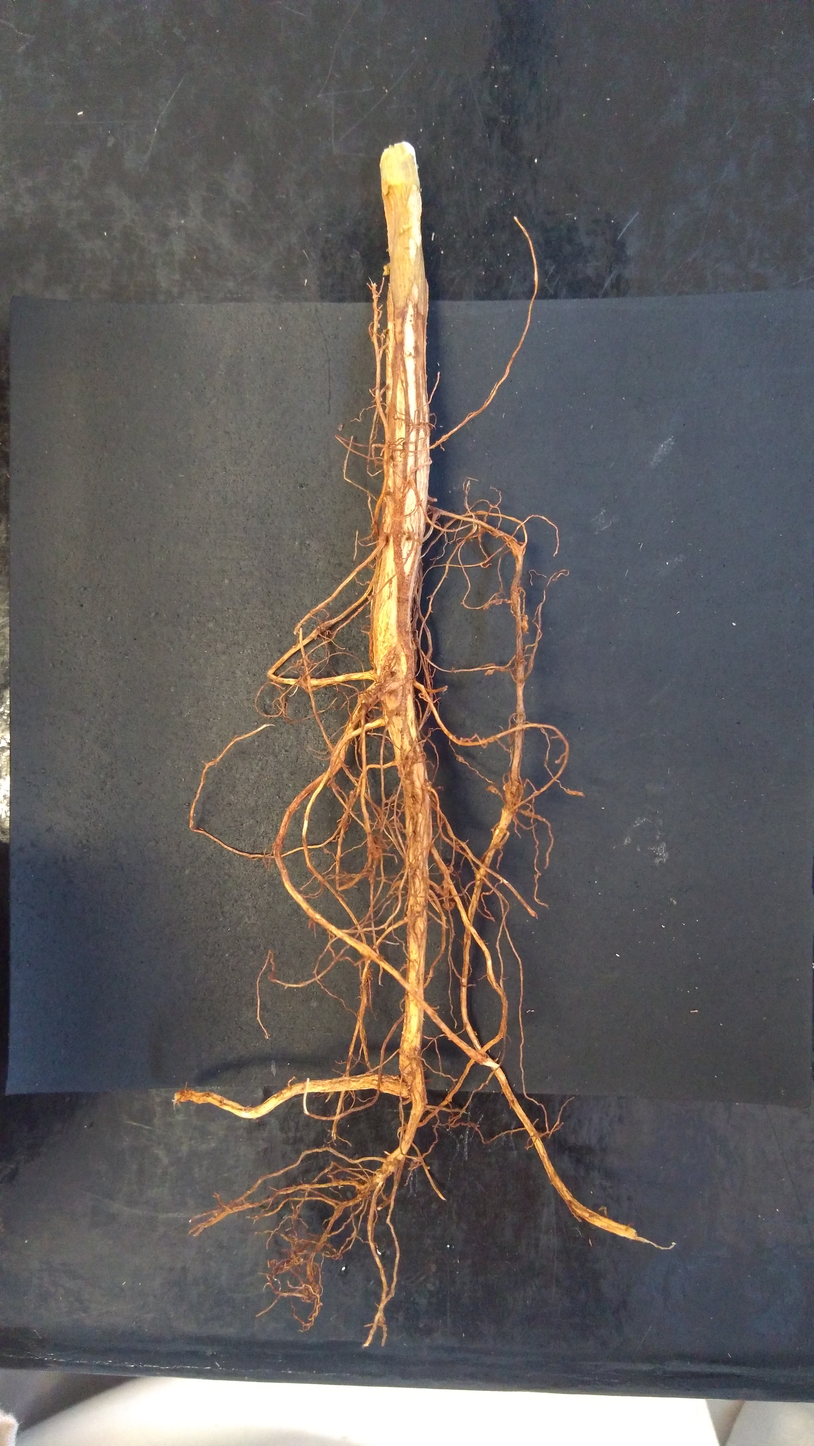nodule: (301, 1281, 320, 1297), (503, 780, 520, 794), (367, 845, 382, 858), (374, 1313, 386, 1326), (521, 614, 528, 634), (442, 901, 456, 911), (424, 780, 432, 795), (383, 265, 390, 275)
